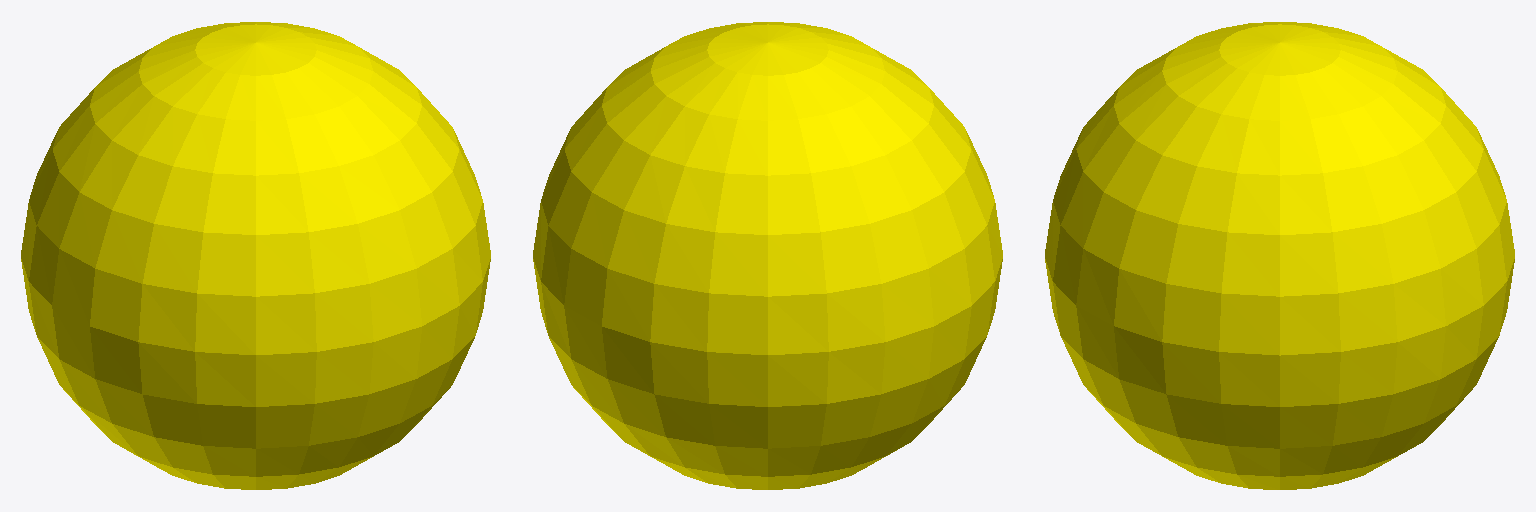
The picture shows the model from 3 angles: view 1: azimuth 30°, elevation 25°; view 2: azimuth 150°, elevation 25°; view 3: azimuth 270°, elevation 25°; orthographic projection.
Visible parts, largest first — view 1: ����; view 2: ����; view 3: ����.
Part boxes in pixels (left/top/right/bottom): ����: left=21, top=22, right=490, bottom=489; ����: left=533, top=22, right=1002, bottom=489; ����: left=1045, top=22, right=1514, bottom=489.
Bounding box in the file's own units: 0.0788 × 0.0788 × 0.0788.
1 materials, 1 textured.